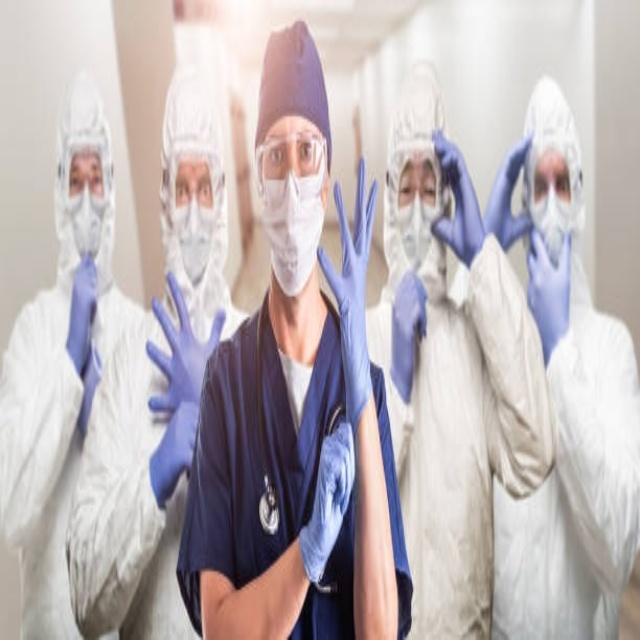Gafas: (258, 283, 343, 575), (258, 131, 328, 190), (526, 158, 582, 210), (164, 165, 221, 213), (60, 156, 114, 200), (393, 169, 441, 211)
Guantes: (318, 155, 379, 432), (148, 268, 219, 409), (298, 414, 354, 588), (428, 132, 487, 274), (481, 131, 537, 260), (527, 221, 572, 369), (148, 392, 200, 511), (391, 268, 429, 403), (65, 253, 99, 388)
Mascara: (260, 149, 326, 294), (171, 193, 216, 284), (392, 185, 439, 272), (66, 179, 108, 262), (532, 186, 575, 267)
